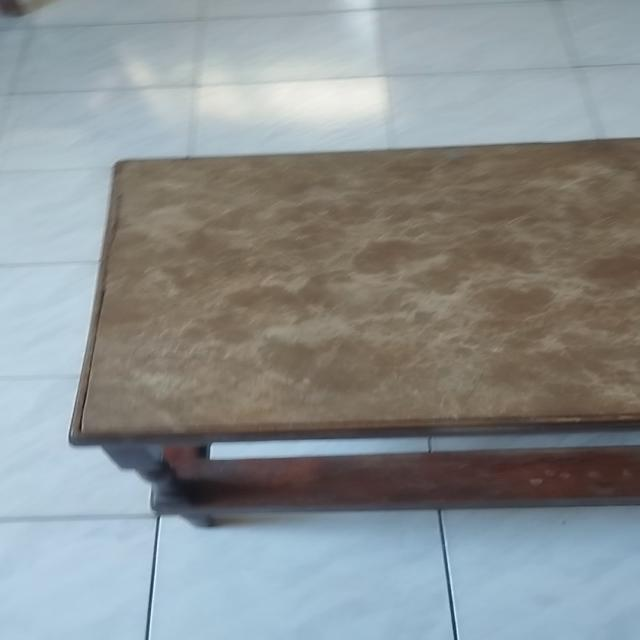table: (63, 129, 640, 537)
